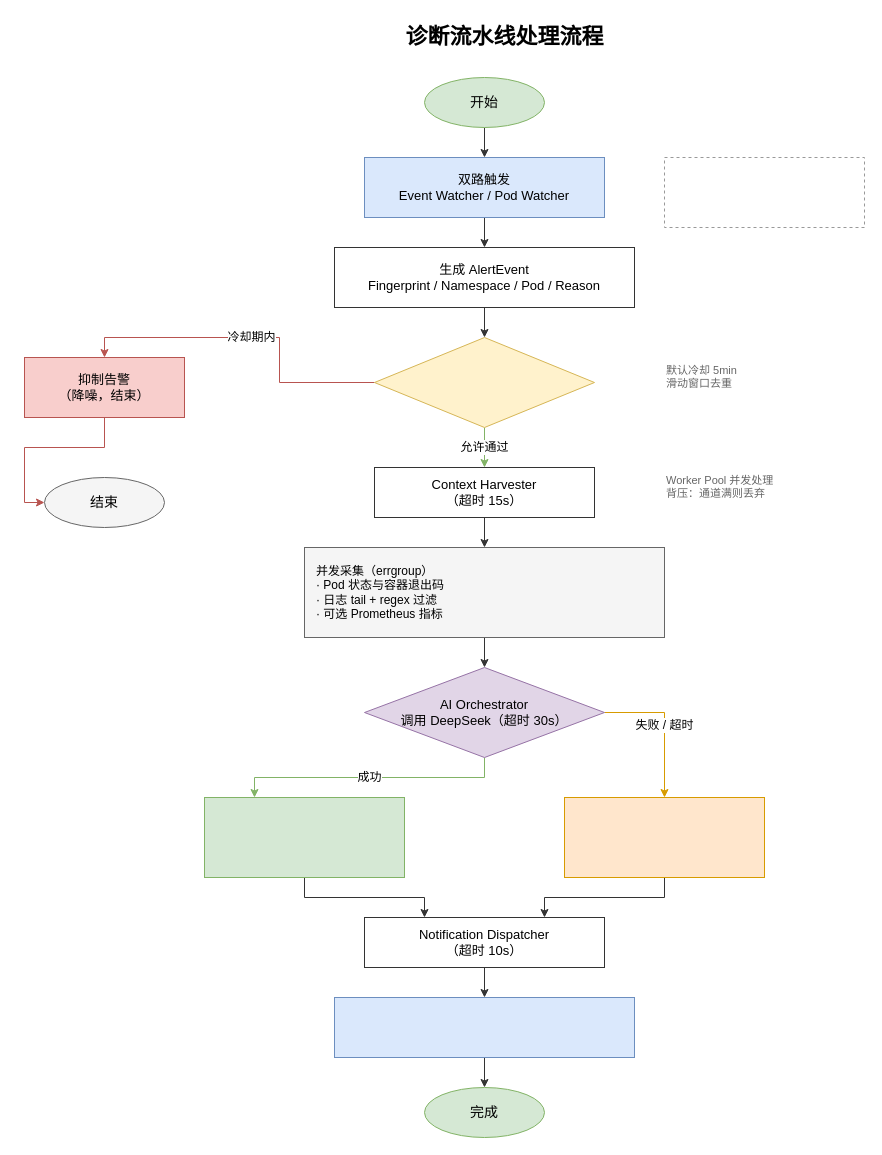
Image size: 882x1155. Some labels were removed from this diagram. The box of each missing label's shape, as (x1, y1, x2, y2) in pixels:
ACK Serverless 补充： Pod Watcher 弥补 无 Warning Event 的场景: (664, 156, 864, 228)
Dedup Engine 指纹在冷却窗口内？: (374, 336, 594, 428)
DiagnosisResult 中文结构化 JSON Degraded=false: (204, 796, 404, 878)
降级 Fallback 原始日志 + kubectl 命令 Degraded=true: (564, 796, 764, 878)
飞书 Flow Webhook msg_type=text 中文诊断报告: (334, 996, 634, 1058)
